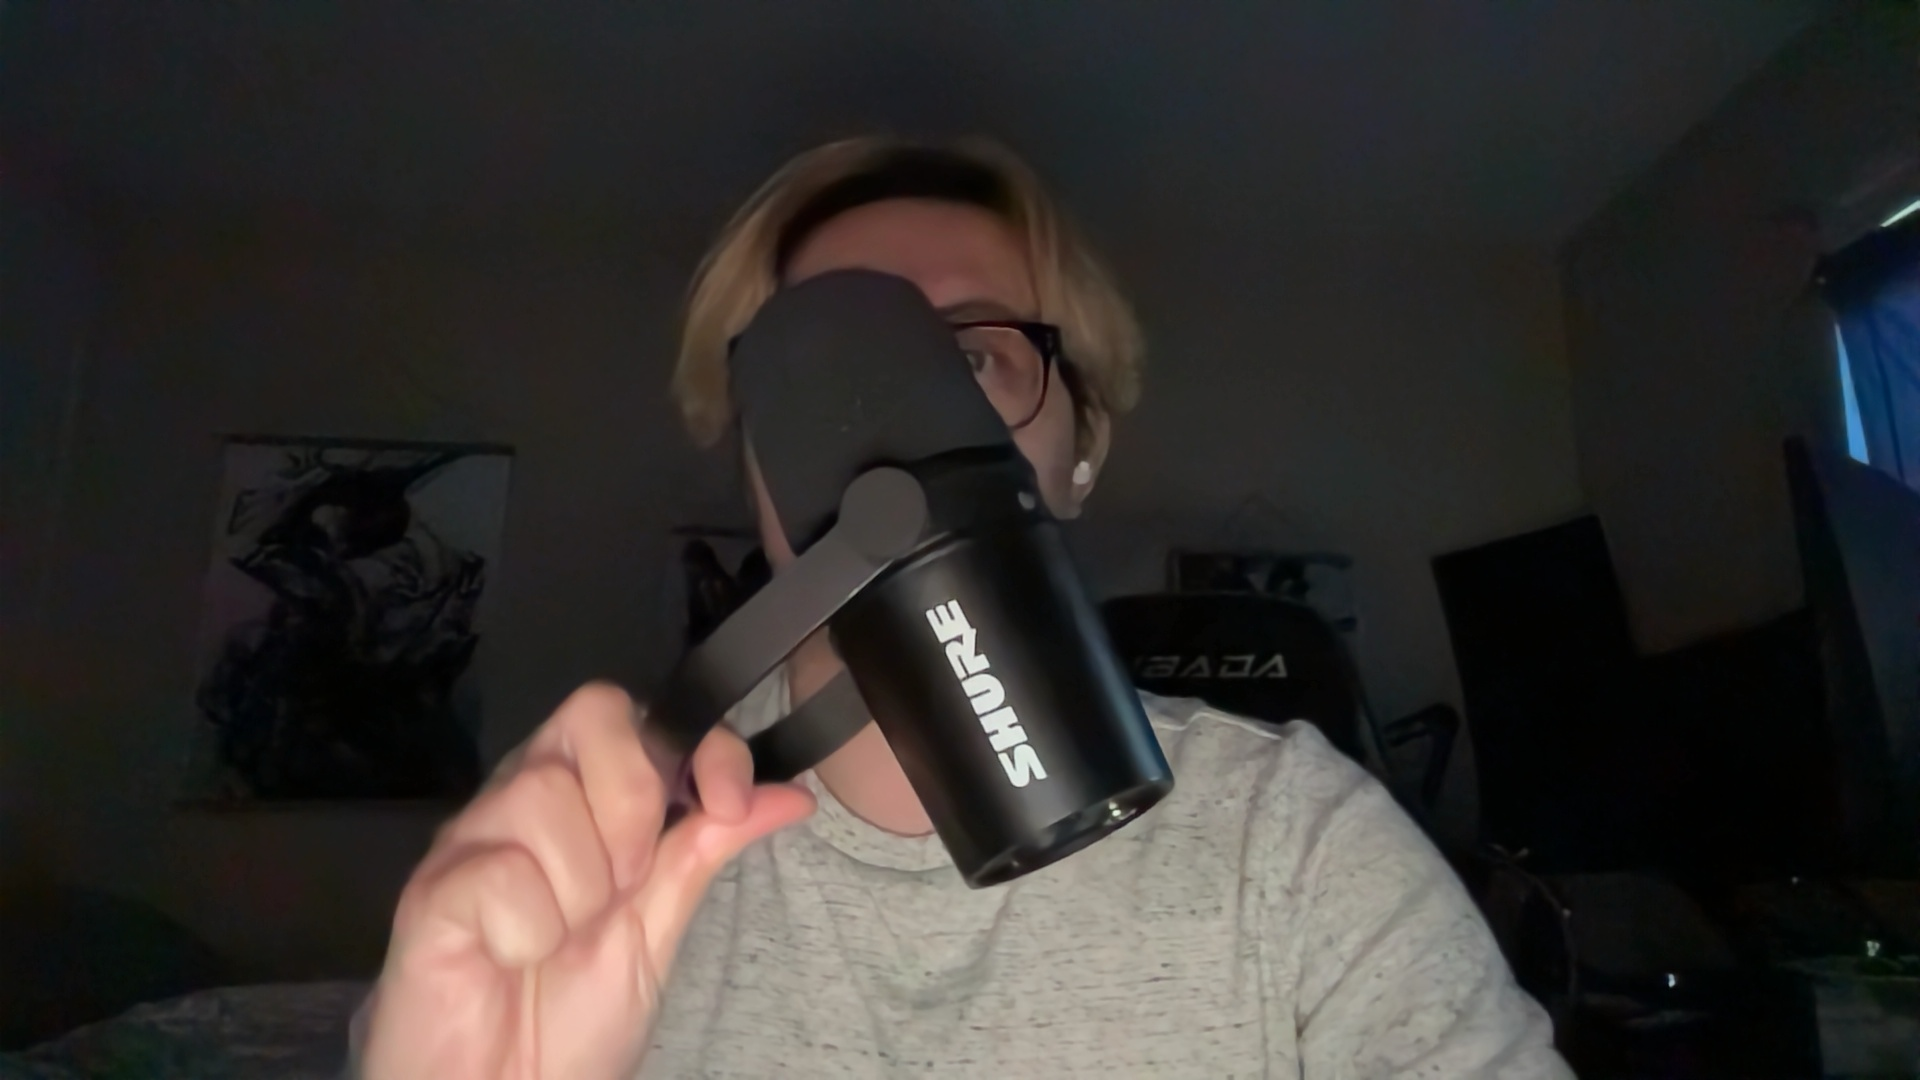microphone: (622, 264, 1176, 898)
